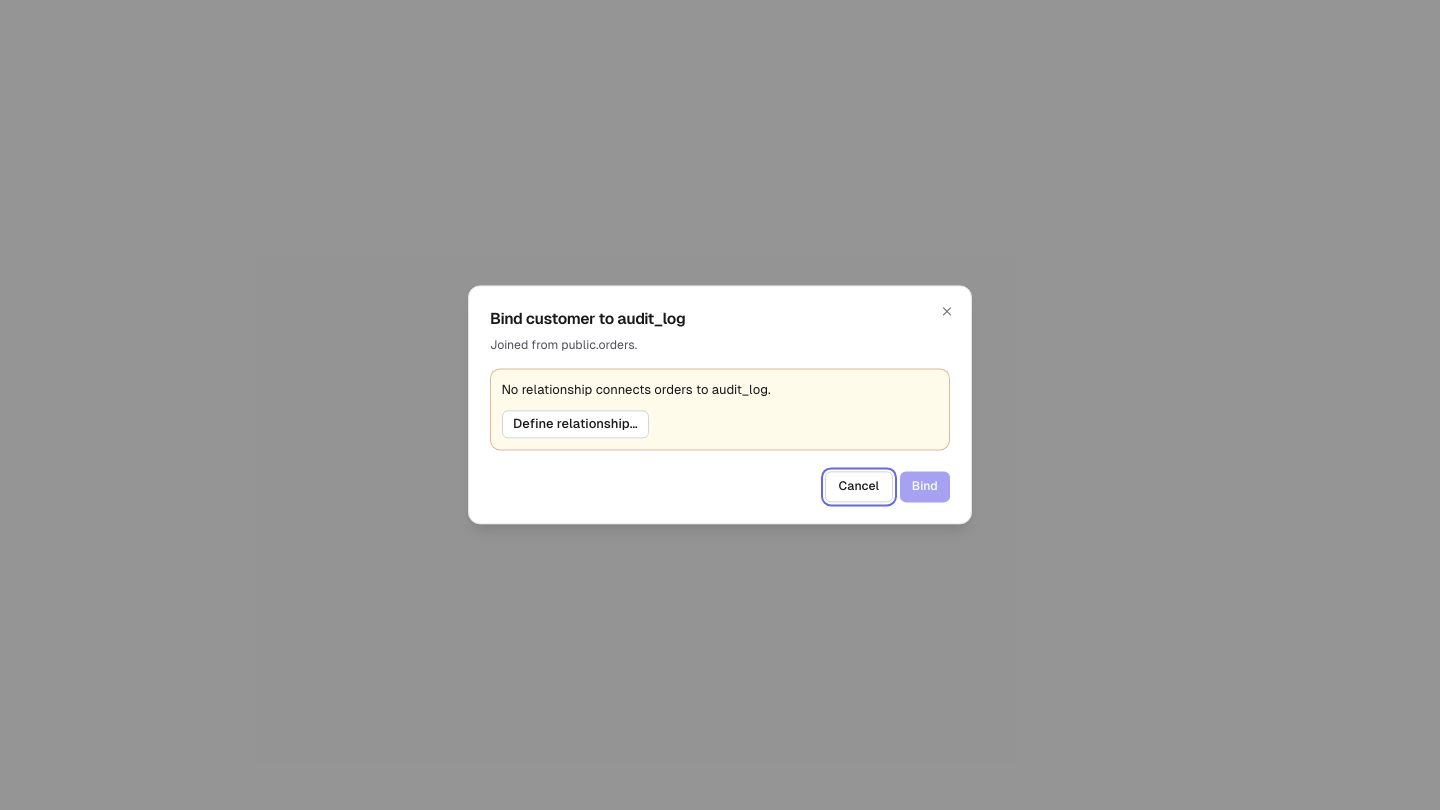
Test: BindDialog › AC3: a table with no path offers Define relationship…
Expected: the message shows "No relationship connects orders to audit_log.", x1=502 y1=382 x2=771 y2=397
Click the button "Define relationship…" at point(575, 425), box x1=502 y1=411 x2=649 y2=439
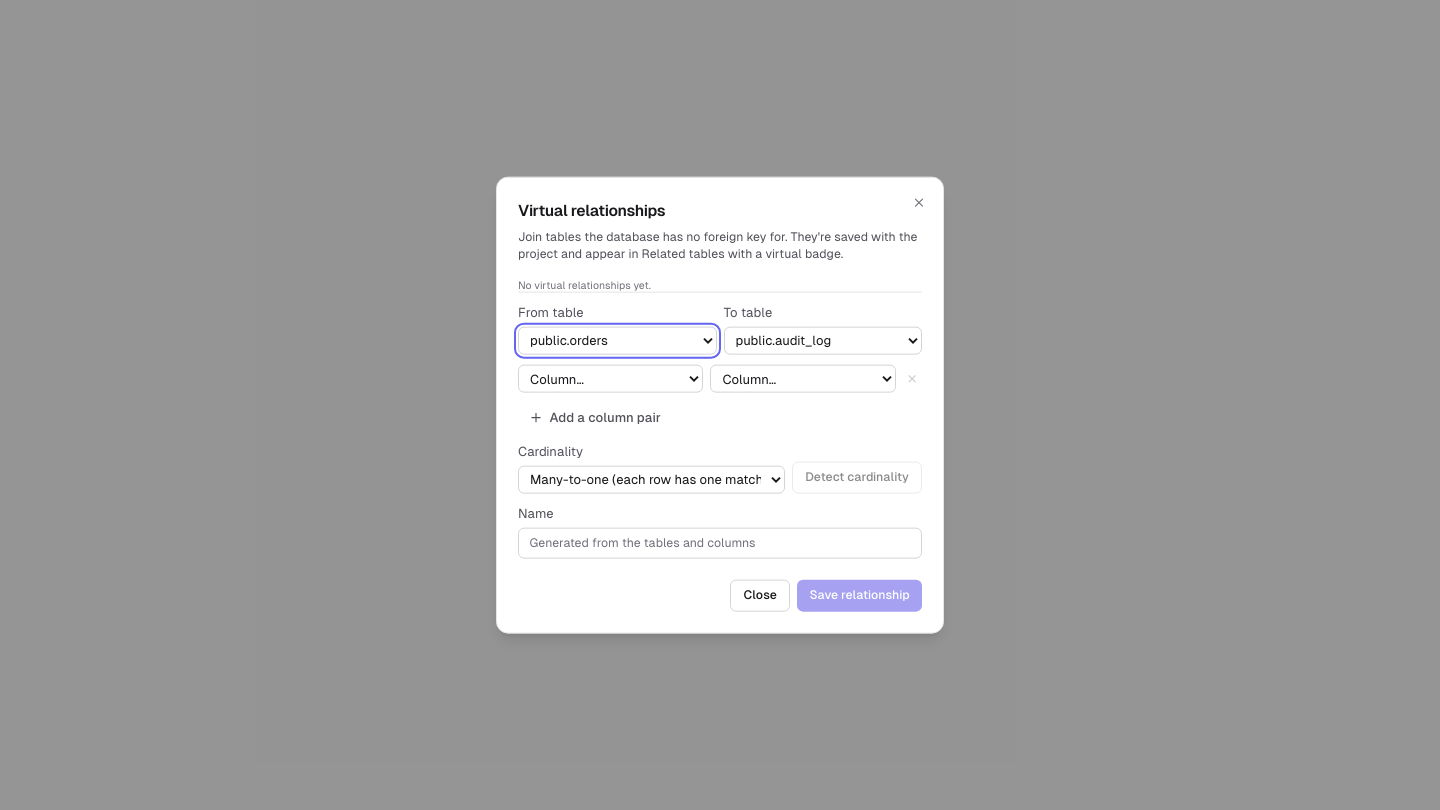
Expected: the dialog "relationship" is shown, x1=496 y1=177 x2=944 y2=633
